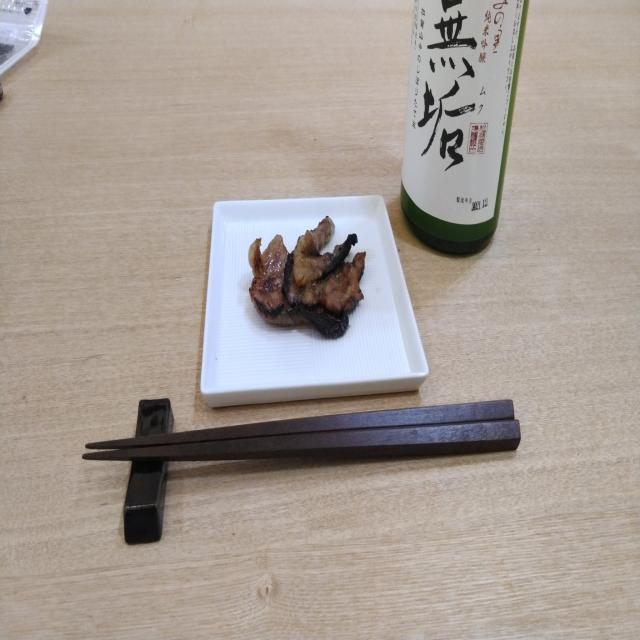OK cooked pork,: (252, 207, 369, 341)
